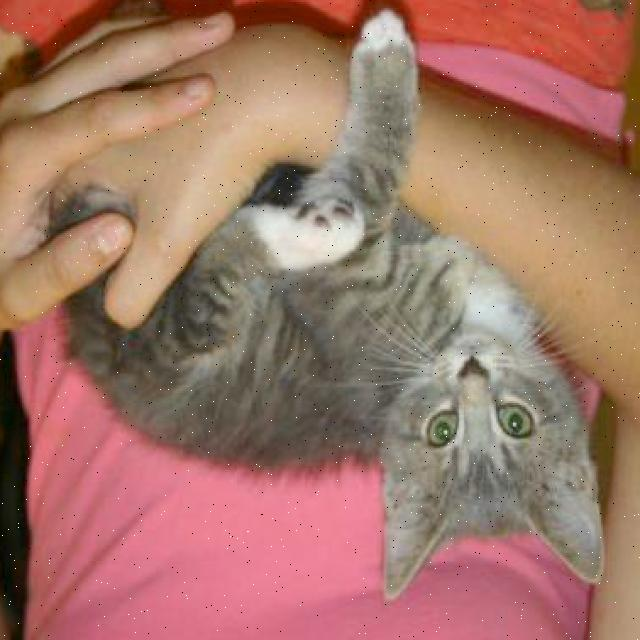Cat: (376, 312, 607, 606)
